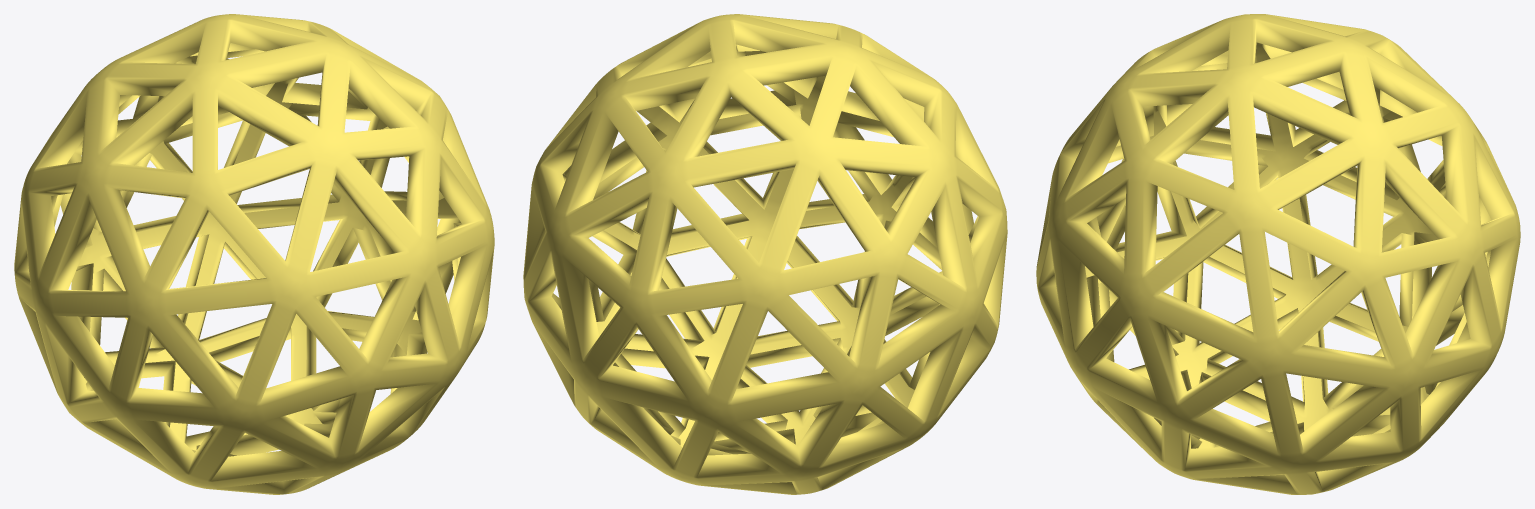
Rendered from 超晶核心.fbx.
3 renders of one model, left to right at view 1: azimuth 30°, elevation 25°; view 2: azimuth 150°, elevation 25°; view 3: azimuth 270°, elevation 25°, orthographic.
Visible parts, largest first — view 1: Icosphere; view 2: Icosphere; view 3: Icosphere.
Part boxes in pixels (x1,y1,x2,y2): Icosphere: [14, 14, 494, 494]; Icosphere: [523, 14, 1007, 494]; Icosphere: [1036, 14, 1520, 494].
Bounding box in the file's own units: 100 × 97.49 × 99.65.
